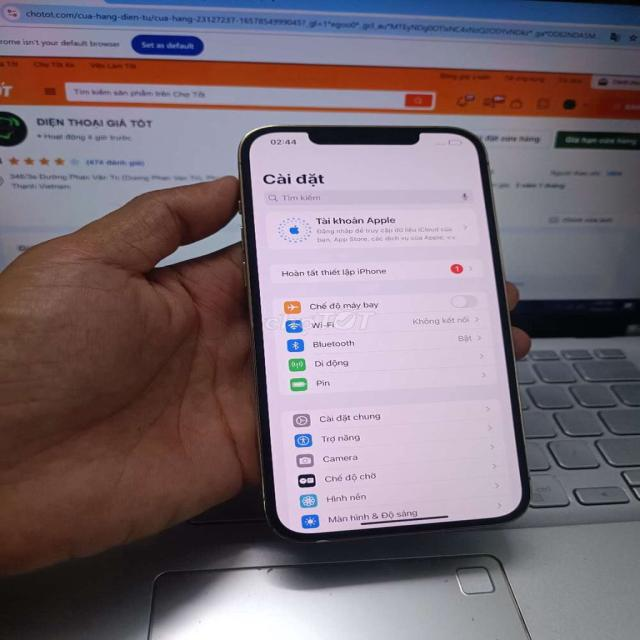gen_12_13: (233, 118, 538, 545)
